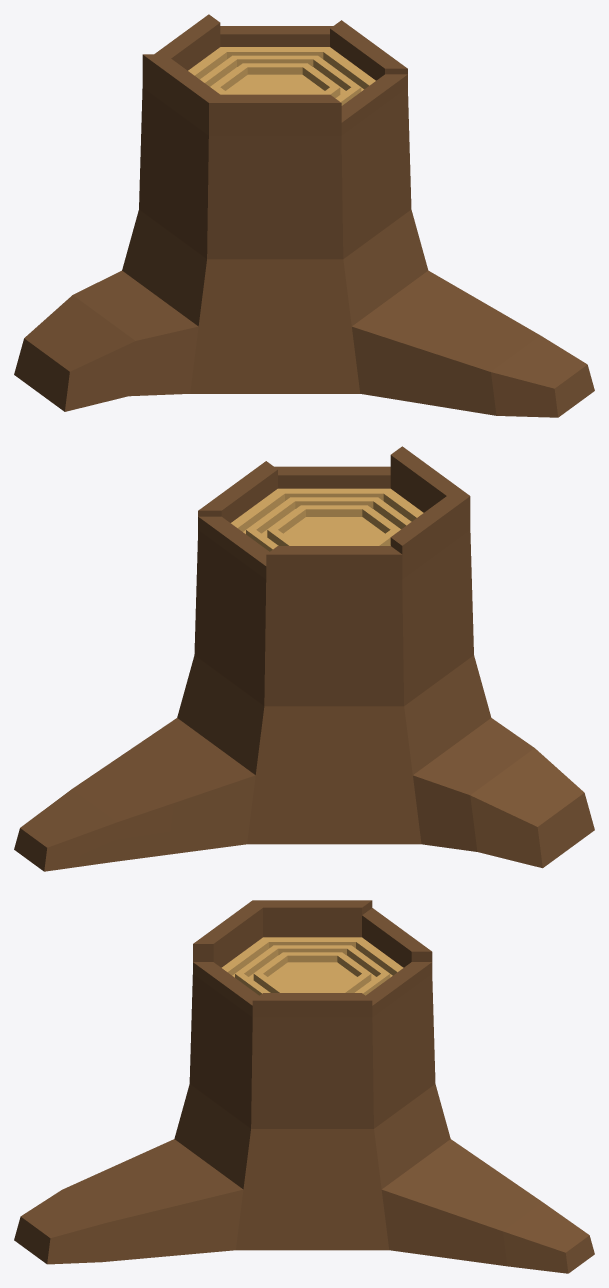
File: CutTree.fbx
3 views of the same model, one above another, from view 1: azimuth 30°, elevation 25°; view 2: azimuth 150°, elevation 25°; view 3: azimuth 270°, elevation 25° (orthographic). The views are drawn at different scales.
Visible parts, largest first — view 1: Circle_LOD0; view 2: Circle_LOD0; view 3: Circle_LOD0.
Boxes of the visible parts, box(x1,y1,x2,y2) form: Circle_LOD0: box(14, 14, 594, 417); Circle_LOD0: box(14, 446, 594, 871); Circle_LOD0: box(14, 900, 594, 1273).
Size of what is drawn, in the model's own units: 275 by 185 by 379.
